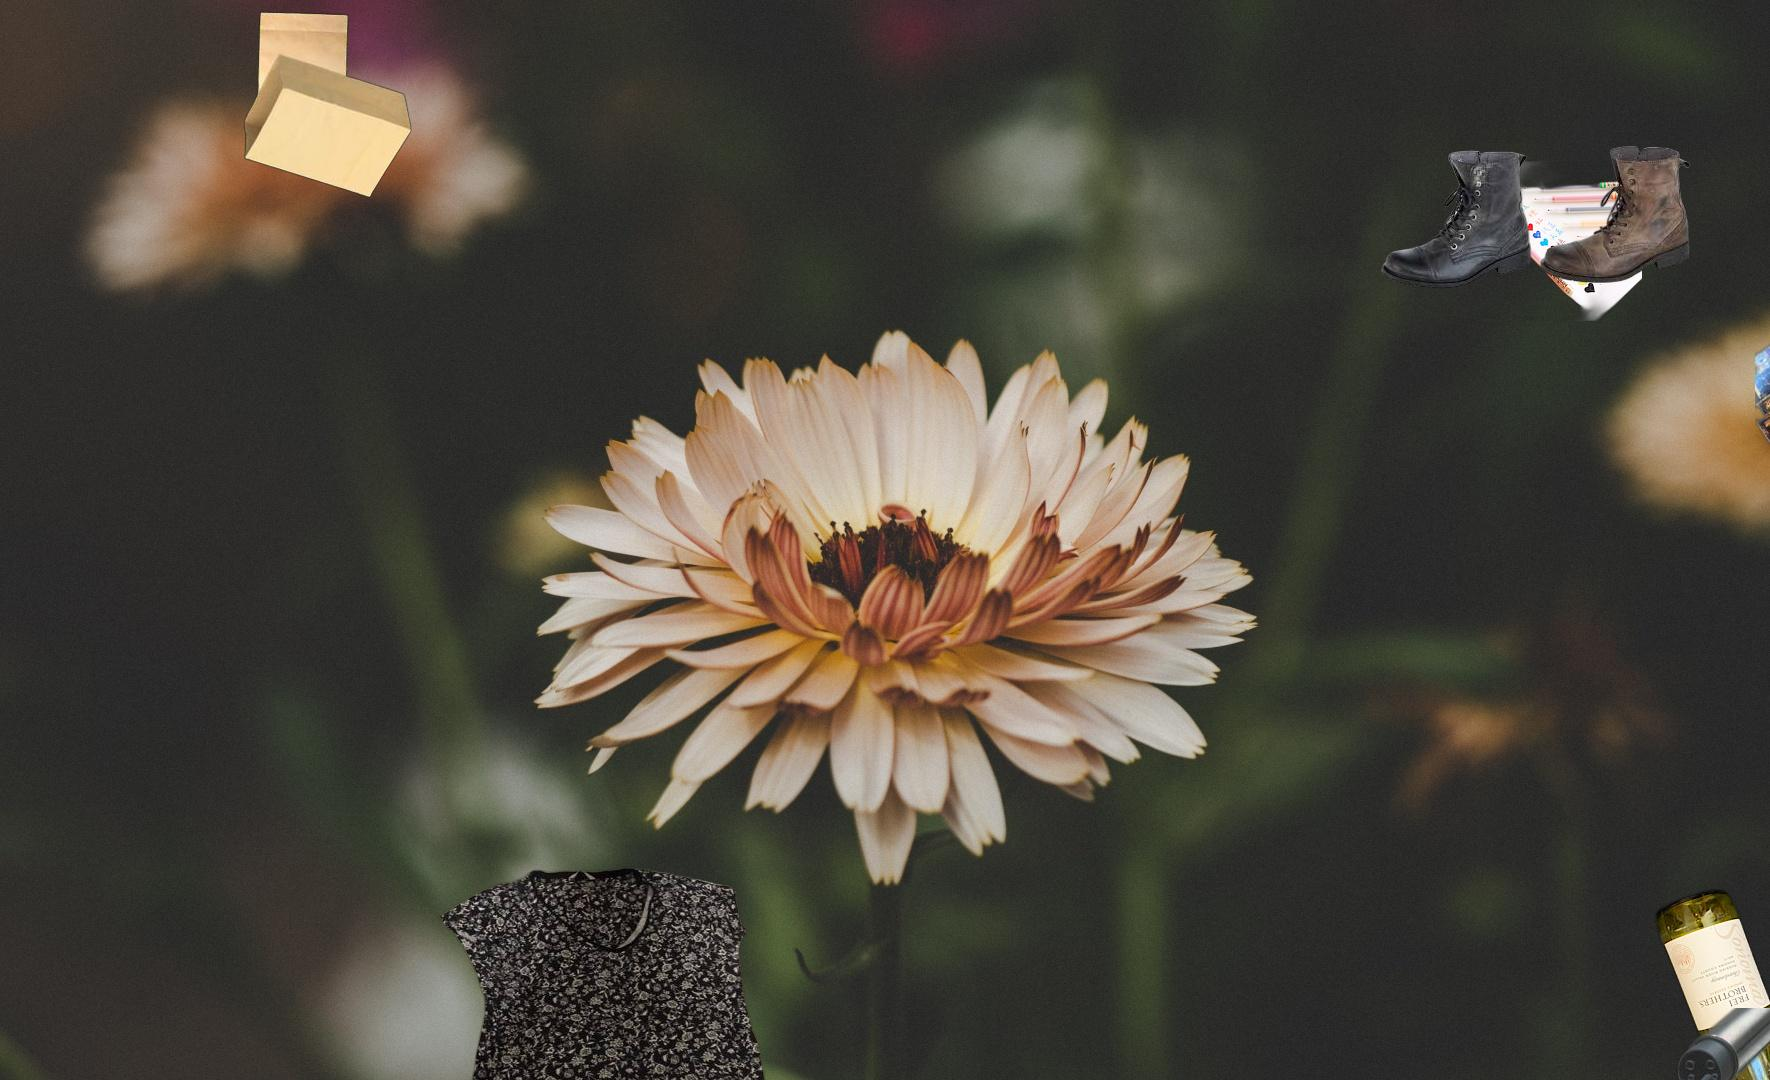clothes: (435, 862, 799, 1080)
glass: (1651, 885, 1770, 1080)
paper: (1579, 1008, 1770, 1080), (1755, 254, 1770, 637)
paper-bag: (241, 6, 412, 200)
penholder: (1482, 161, 1642, 321)
shoes: (1379, 143, 1694, 291)
